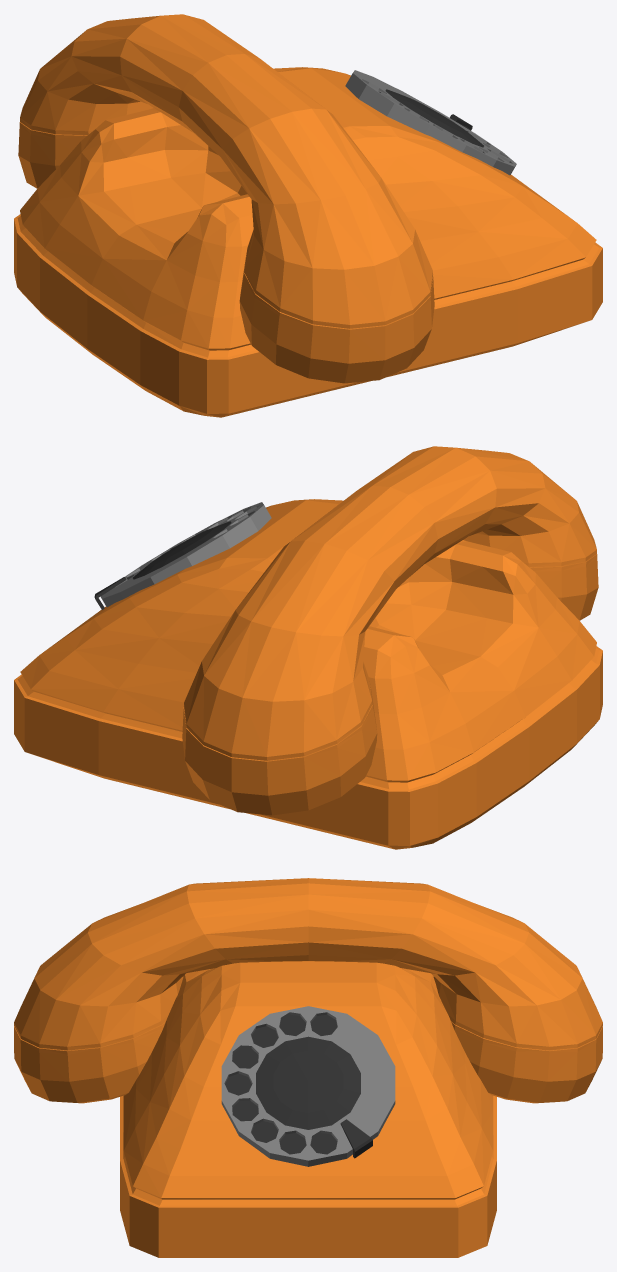
File: Phone.glb
The picture shows the model from 3 angles, top to bottom: view 1: azimuth 30°, elevation 25°; view 2: azimuth 150°, elevation 25°; view 3: azimuth 270°, elevation 25°; orthographic projection. The views are drawn at different scales.
Visible parts, largest first — view 1: Phone; view 2: Phone; view 3: Phone.
Boxes of the visible parts, x1,y1,x2,y2 form: Phone: (14,14,602,417); Phone: (14,446,602,849); Phone: (14,878,602,1257).
Bounding box in the file's own units: 69.22 × 41.02 × 87.67.
Materials: 1 (1 with a texture image).
